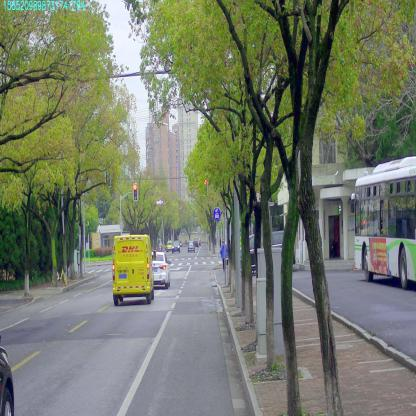traffic-light: (133, 183, 137, 201), (204, 179, 206, 195)
